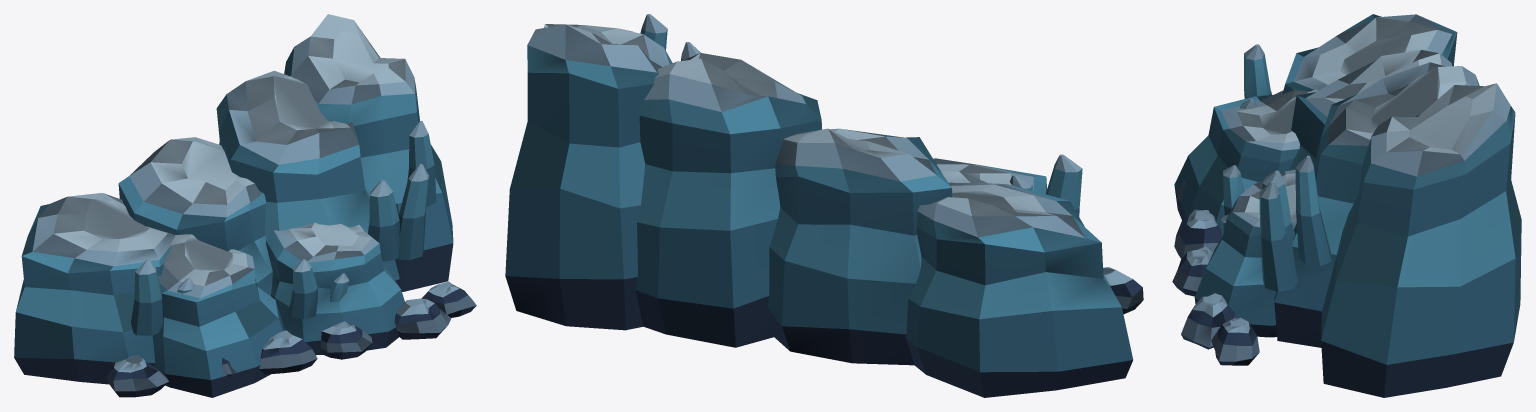
File: frost-icefall.glb
3 views of the same model, side by side, from view 1: azimuth 30°, elevation 25°; view 2: azimuth 150°, elevation 25°; view 3: azimuth 270°, elevation 25° (orthographic). The views are drawn at different scales.
Visible parts, largest first — view 1: frost-icefall; view 2: frost-icefall; view 3: frost-icefall.
Boxes of the visible parts, x1,y1,x2,y2 form: frost-icefall: [14, 14, 476, 397]; frost-icefall: [505, 14, 1143, 397]; frost-icefall: [1172, 14, 1521, 397].
Bounding box in the file's own units: 17.89 × 8.55 × 9.95.
